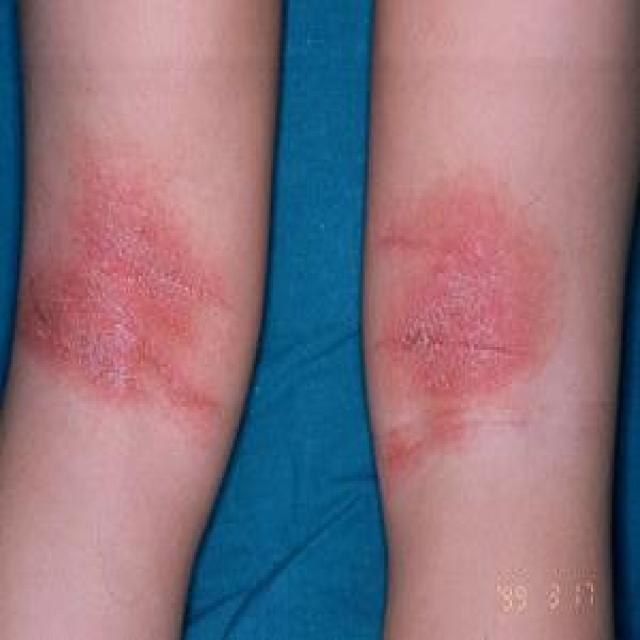eczema: (33, 146, 193, 425), (388, 177, 570, 421)
